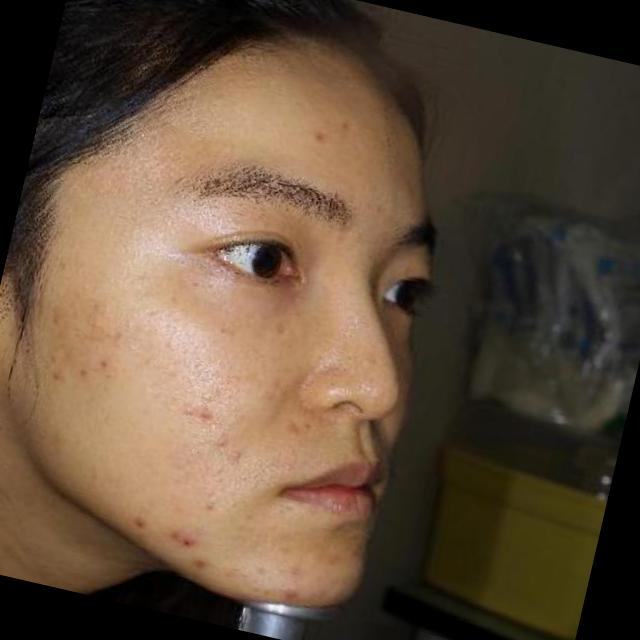blackhead: (298, 415, 320, 437)
darkspot: (298, 116, 342, 160), (120, 504, 159, 536), (85, 346, 118, 382), (65, 356, 99, 388), (272, 580, 304, 608), (44, 366, 72, 392), (190, 402, 218, 427), (180, 532, 196, 554), (166, 528, 182, 546)
